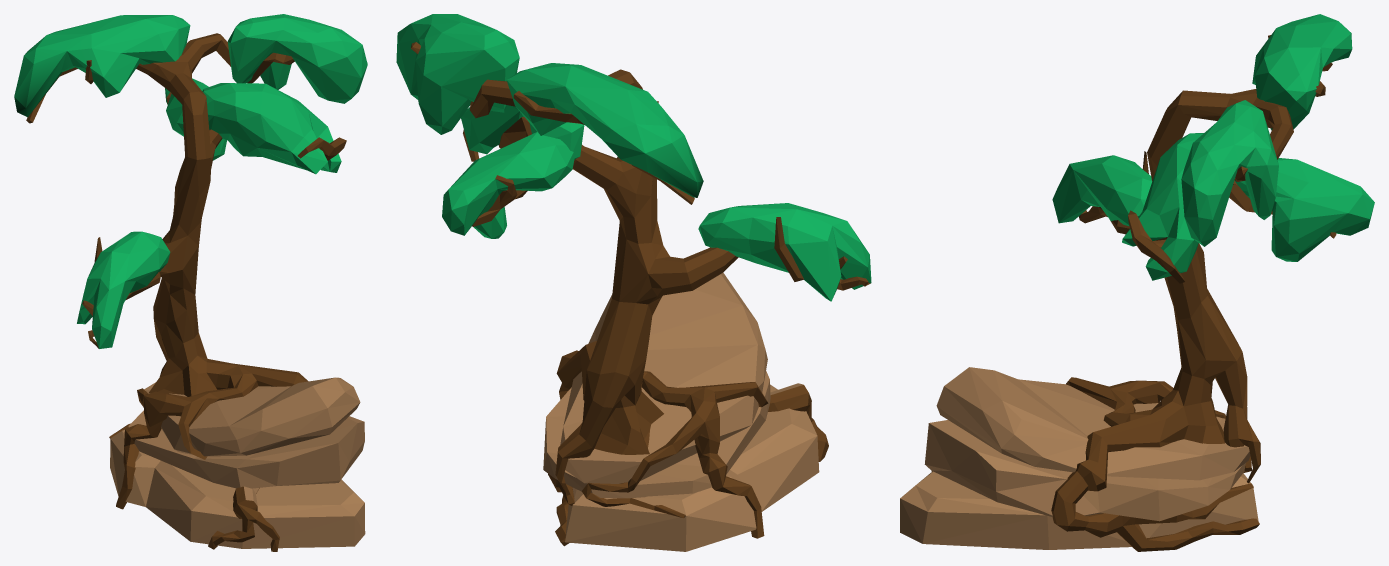
Rendered from Alber_bello3.glb.
3 views of the same model, side by side, from view 1: azimuth 30°, elevation 25°; view 2: azimuth 150°, elevation 25°; view 3: azimuth 270°, elevation 25° (orthographic). The views are drawn at different scales.
Visible parts, largest first — view 1: EM_Tree9a_LOD1; view 2: EM_Tree9a_LOD1; view 3: EM_Tree9a_LOD1.
Boxes of the visible parts, x1,y1,x2,y2 form: EM_Tree9a_LOD1: (14,14,367,551); EM_Tree9a_LOD1: (396,14,871,551); EM_Tree9a_LOD1: (900,14,1374,551).
Bounding box in the file's own units: 7.88 × 9.46 × 8.57.
Materials: 1 (1 with a texture image).
